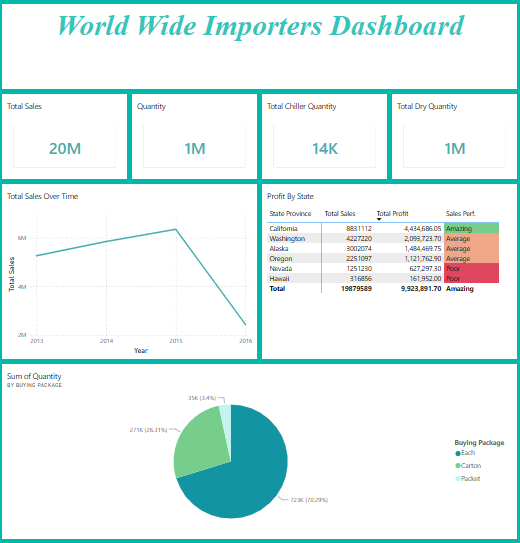

The page's visual inventory and layout, read from the dashboard file:
{"tool":"powerbi","page":{"name":"Sales","canvas":[1280,720],"ordinal":0},"visuals":[{"type":"shape","box":[0,0,1280,91.7],"z":0},{"type":"shape","box":[0,91.7,16.7,628.3],"z":1000},{"type":"shape","box":[16.7,91.7,235,628.3],"z":2000},{"type":"image","box":[67.1,0,134.3,64.3],"z":3000},{"type":"textbox","box":[16.7,46.7,345,53.3],"z":4000},{"type":"cardVisual","title":"Total Sales","fields":{"Data":["FactSale.Total Sales"]},"box":[265,100,243.3,120],"z":5000},{"type":"cardVisual","title":"Total Chiller Quantity","fields":{"Data":["Sum(FactSale.Total Chiller Items)"]},"box":[775,100,243.3,120],"z":6000},{"type":"cardVisual","title":"Quantity","fields":{"Data":["Sum(FactSale.Quantity)"]},"box":[520,100,243.3,120],"z":7000},{"type":"cardVisual","title":"Total Dry Quantity","fields":{"Data":["Sum(FactSale.Total Dry Items)"]},"box":[1030,100,243.3,120],"z":8000},{"type":"textbox","box":[18,92,234,86],"z":9000},{"type":"lineChart","title":"Total Sales Over Time","fields":{"Y":["Sum(FactSale.Total Excluding Tax)"],"Category":["DimDate.Date.Variation.Date Hierarchy.Year","DimDate.Date.Variation.Date Hierarchy.Quarter","DimDate.Date.Variation.Date Hierarchy.Month","DimDate.Date.Variation.Date Hierarchy.Day"]},"box":[265,232.5,497.5,225],"z":10000},{"type":"barChart","fields":{"Y":["Sum(FactSale.Total Excluding Tax)"],"Category":["DimStockItem.Stock Item"]},"box":[775.7,231.4,497.1,488.6],"z":11000},{"type":"pivotTable","title":"Sales By State","fields":{"Values":["Sum(FactSale.Total Excluding Tax)","Sum(FactSale.Quantity)","Sum(FactSale.Profit)","FactSale.Sales Perf."],"Rows":["DimCity.State Province"]},"box":[267.5,477.5,497.5,225],"z":12000},{"type":"slicer","fields":{"Values":["DimEmployee.Employee"]},"box":[16,162,234,74],"z":13000},{"type":"slicer","fields":{"Values":["DimCustomer.Customer"]},"box":[16,250,234,74],"z":14000},{"type":"slicer","fields":{"Values":["DimCity.City"]},"box":[16,344,234,74],"z":15000},{"type":"slicer","fields":{"Values":["DimCustomer.Buying Group"]},"box":[16,436,234,74],"z":16000},{"type":"slicer","fields":{"Values":["DimCity.Sales Territory"]},"box":[16,528,234,74],"z":17000},{"type":"pageNavigator","box":[671.7,31.7,600,50],"z":18000}]}

Visuals, with their boxes on the page's 1280x720 design canvas (x1, y1, x2, y2). These are canvas units, not pixel positions in the 520x543 screenshot, which may show the page scaled, cropped or inside an application window:
shape: x1=0 y1=0 x2=1280 y2=92
shape: x1=0 y1=92 x2=17 y2=720
shape: x1=17 y1=92 x2=252 y2=720
image: x1=67 y1=0 x2=201 y2=64
textbox: x1=17 y1=47 x2=362 y2=100
"Total Sales" cardVisual: x1=265 y1=100 x2=508 y2=220
"Total Chiller Quantity" cardVisual: x1=775 y1=100 x2=1018 y2=220
"Quantity" cardVisual: x1=520 y1=100 x2=763 y2=220
"Total Dry Quantity" cardVisual: x1=1030 y1=100 x2=1273 y2=220
textbox: x1=18 y1=92 x2=252 y2=178
"Total Sales Over Time" lineChart: x1=265 y1=232 x2=762 y2=458
barChart - Sum(FactSale.Total Excluding Tax) x DimStockItem.Stock Item: x1=776 y1=231 x2=1273 y2=720
"Sales By State" pivotTable: x1=268 y1=478 x2=765 y2=702
slicer - DimEmployee.Employee: x1=16 y1=162 x2=250 y2=236
slicer - DimCustomer.Customer: x1=16 y1=250 x2=250 y2=324
slicer - DimCity.City: x1=16 y1=344 x2=250 y2=418
slicer - DimCustomer.Buying Group: x1=16 y1=436 x2=250 y2=510
slicer - DimCity.Sales Territory: x1=16 y1=528 x2=250 y2=602
pageNavigator: x1=672 y1=32 x2=1272 y2=82
